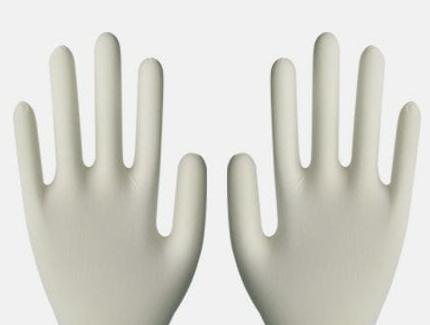gloves: (218, 25, 422, 325), (6, 29, 208, 325)
